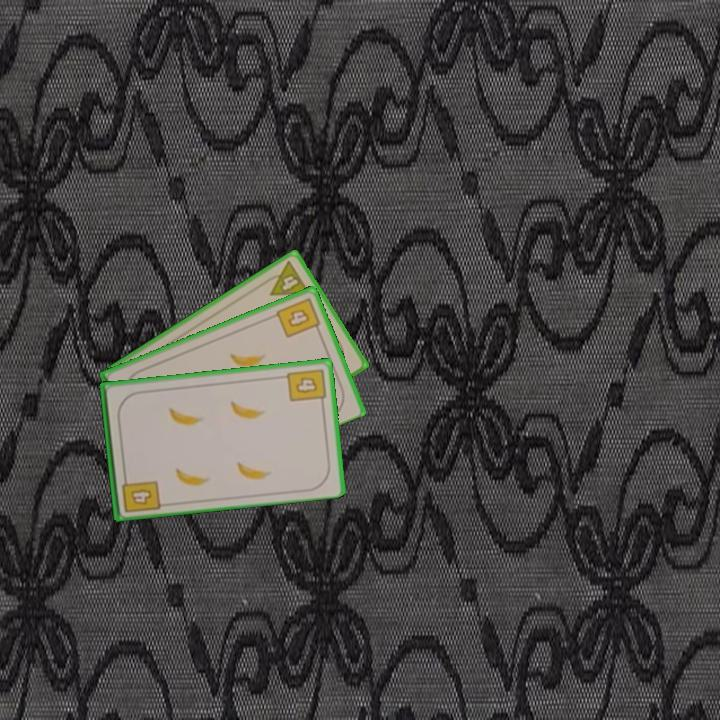4b: (273, 294, 323, 341), (118, 470, 162, 515), (284, 365, 328, 408)
4p: (259, 257, 313, 299)
